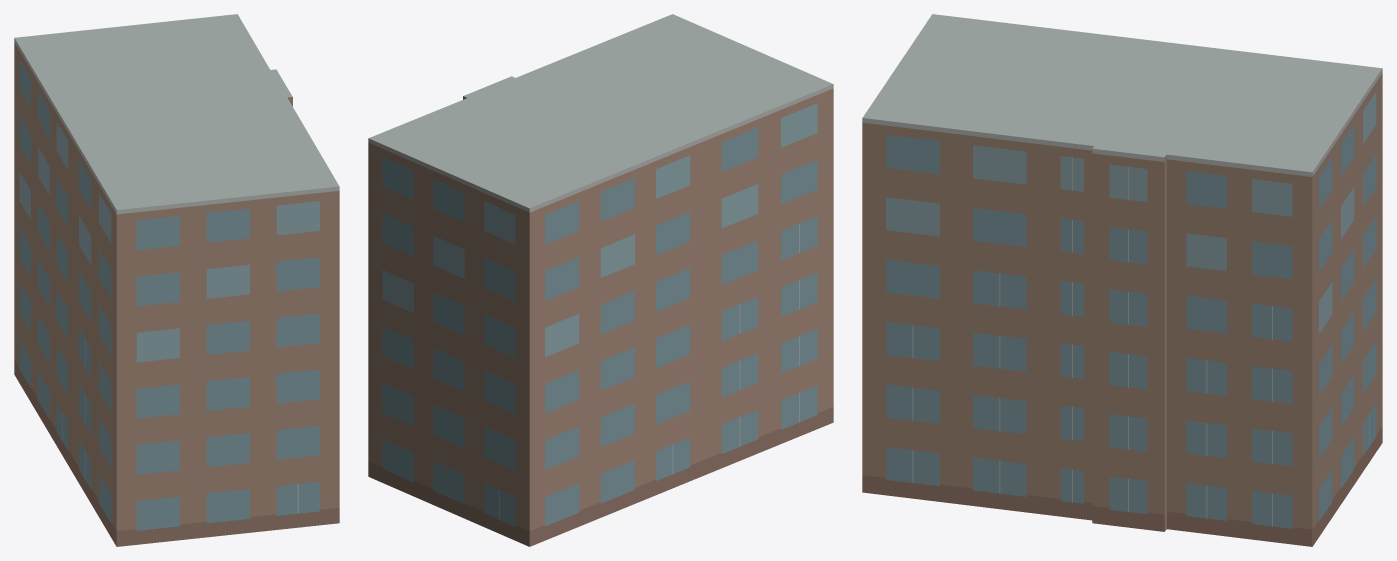
File: survey-upis-32997938.glb
3 renders of one model, left to right at view 1: azimuth 30°, elevation 25°; view 2: azimuth 150°, elevation 25°; view 3: azimuth 270°, elevation 25°, orthographic. The views are drawn at different scales.
Parts seen in each view (by area): view 1: survey-upis-32997938.tmp; view 2: survey-upis-32997938.tmp; view 3: survey-upis-32997938.tmp.
Part boxes in pixels (<box>): survey-upis-32997938.tmp: <box>14,14,339,546</box>; survey-upis-32997938.tmp: <box>368,14,833,546</box>; survey-upis-32997938.tmp: <box>862,14,1382,546</box>.
Bounding box in the file's own units: 17.6 × 19.4 × 24.43.
